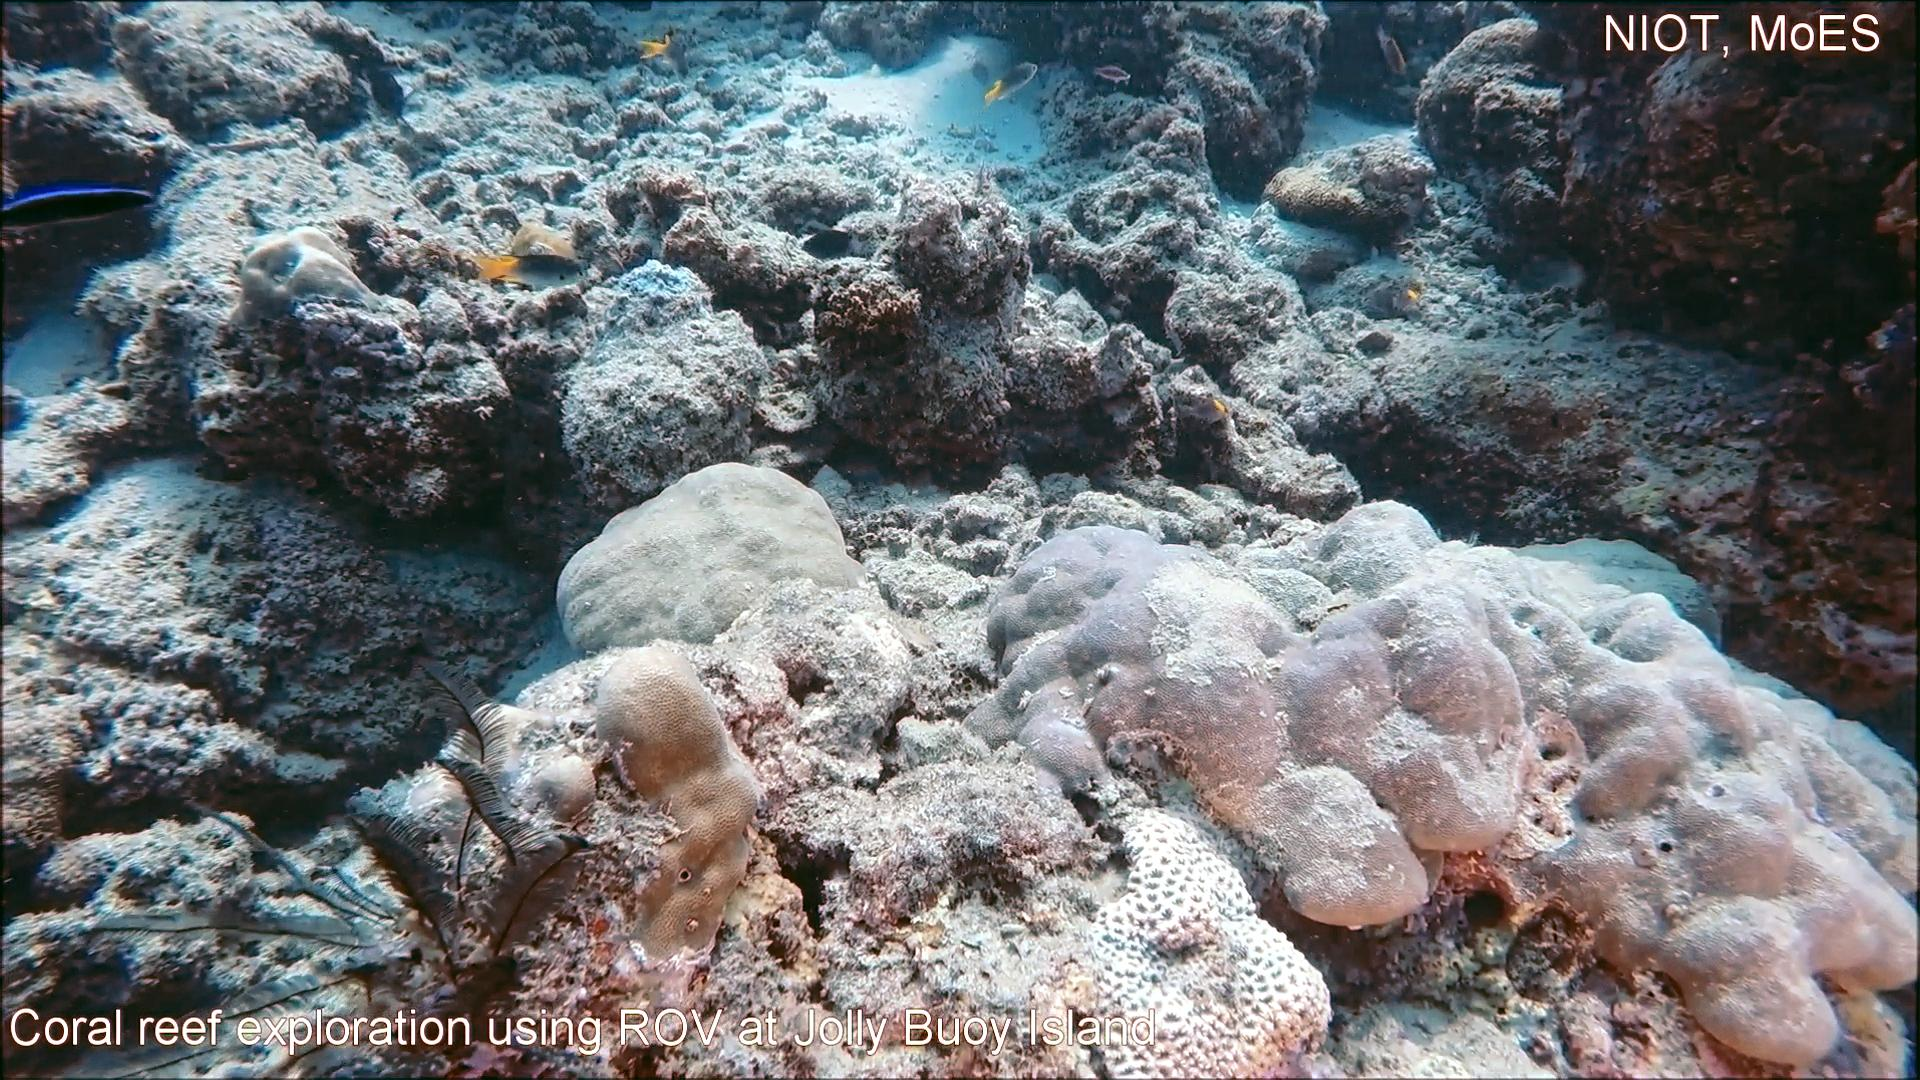Feather star-Crinoid star: (30, 654, 661, 1080)
Goniastrea-Goniastrea pectinata: (1069, 798, 1348, 1080)
Porites-Porites pukoensis: (1393, 487, 1920, 1080)
Turbinaria-Turbinaria stellulata: (0, 688, 95, 866)
